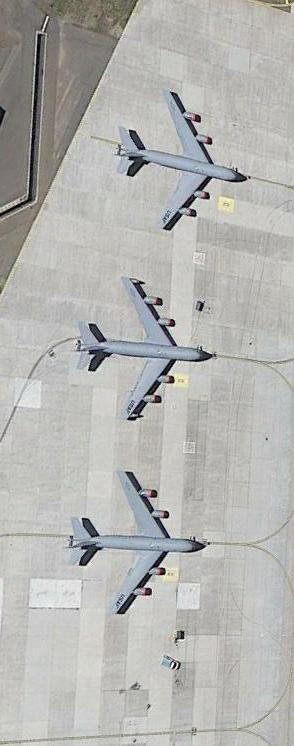KC-135: (71, 272, 212, 418), (68, 474, 209, 619), (118, 95, 247, 226)
